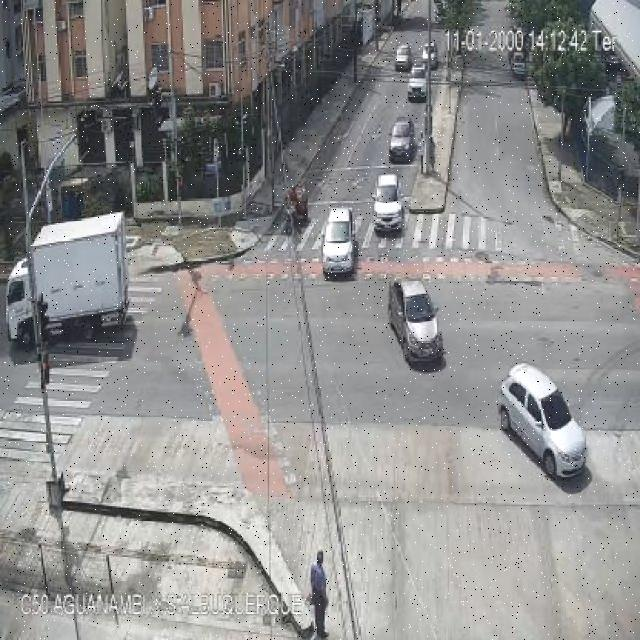Car: (499, 365, 587, 478), (386, 276, 446, 367), (322, 208, 356, 278), (373, 175, 405, 232), (389, 116, 415, 159), (407, 64, 428, 101), (394, 44, 412, 72), (421, 42, 438, 70), (510, 53, 528, 79)
Truck: (4, 209, 133, 352)
